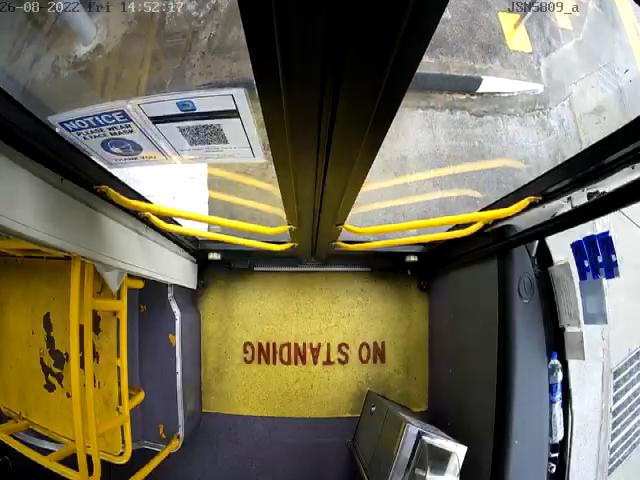close: (0, 0, 640, 131)
